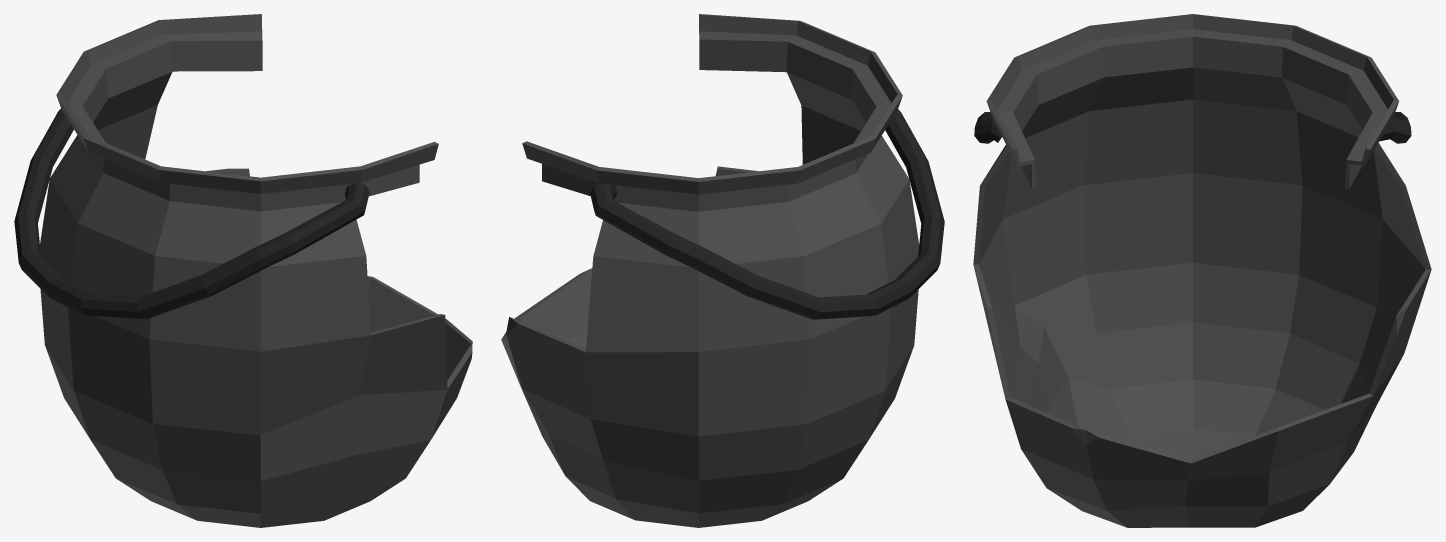
Rendered from DamagedCauldron_01.fbx.
3 views of the same model, side by side, from view 1: azimuth 30°, elevation 25°; view 2: azimuth 150°, elevation 25°; view 3: azimuth 270°, elevation 25° (orthographic).
Parts seen in each view (by area): view 1: DamagedCauldron_01; view 2: DamagedCauldron_01; view 3: DamagedCauldron_01.
Boxes of the visible parts, x1=… form: DamagedCauldron_01: x1=14, y1=14, x2=472, y2=527; DamagedCauldron_01: x1=501, y1=14, x2=944, y2=527; DamagedCauldron_01: x1=973, y1=14, x2=1431, y2=527.
Size of the model in its own units: 41.04 by 38.96 by 40.5.
